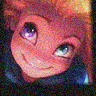Zoe: (1, 1, 92, 90)
